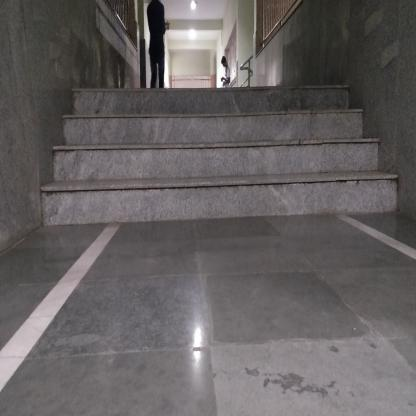stairs: (71, 84, 350, 232)
